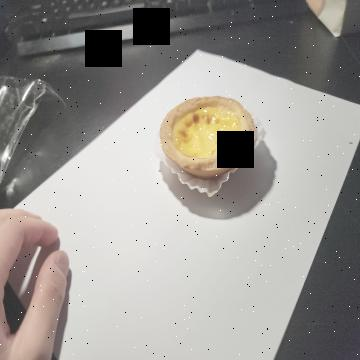EggTart: (160, 95, 255, 179)
